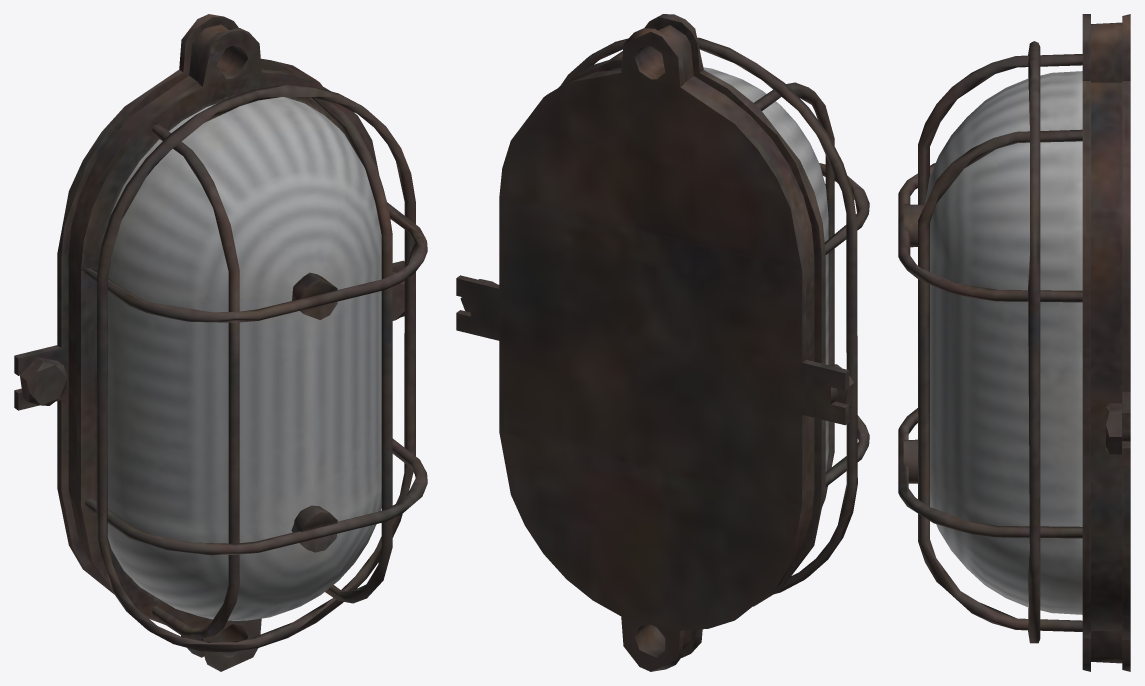
File: industrial_wall_lamp.glb
3 renders of one model, left to right at view 1: azimuth 30°, elevation 25°; view 2: azimuth 150°, elevation 25°; view 3: azimuth 270°, elevation 25°, orthographic.
Parts seen in each view (by area): view 1: industrial_wall_lamp; view 2: industrial_wall_lamp; view 3: industrial_wall_lamp.
Part boxes in pixels (box(x1,y1,x2,y2)): industrial_wall_lamp: box(14, 14, 427, 671); industrial_wall_lamp: box(456, 14, 869, 671); industrial_wall_lamp: box(898, 14, 1130, 671).
Bounding box in the file's own units: 0.2735 × 0.4299 × 0.139.
Materials: 2 (2 with a texture image).
